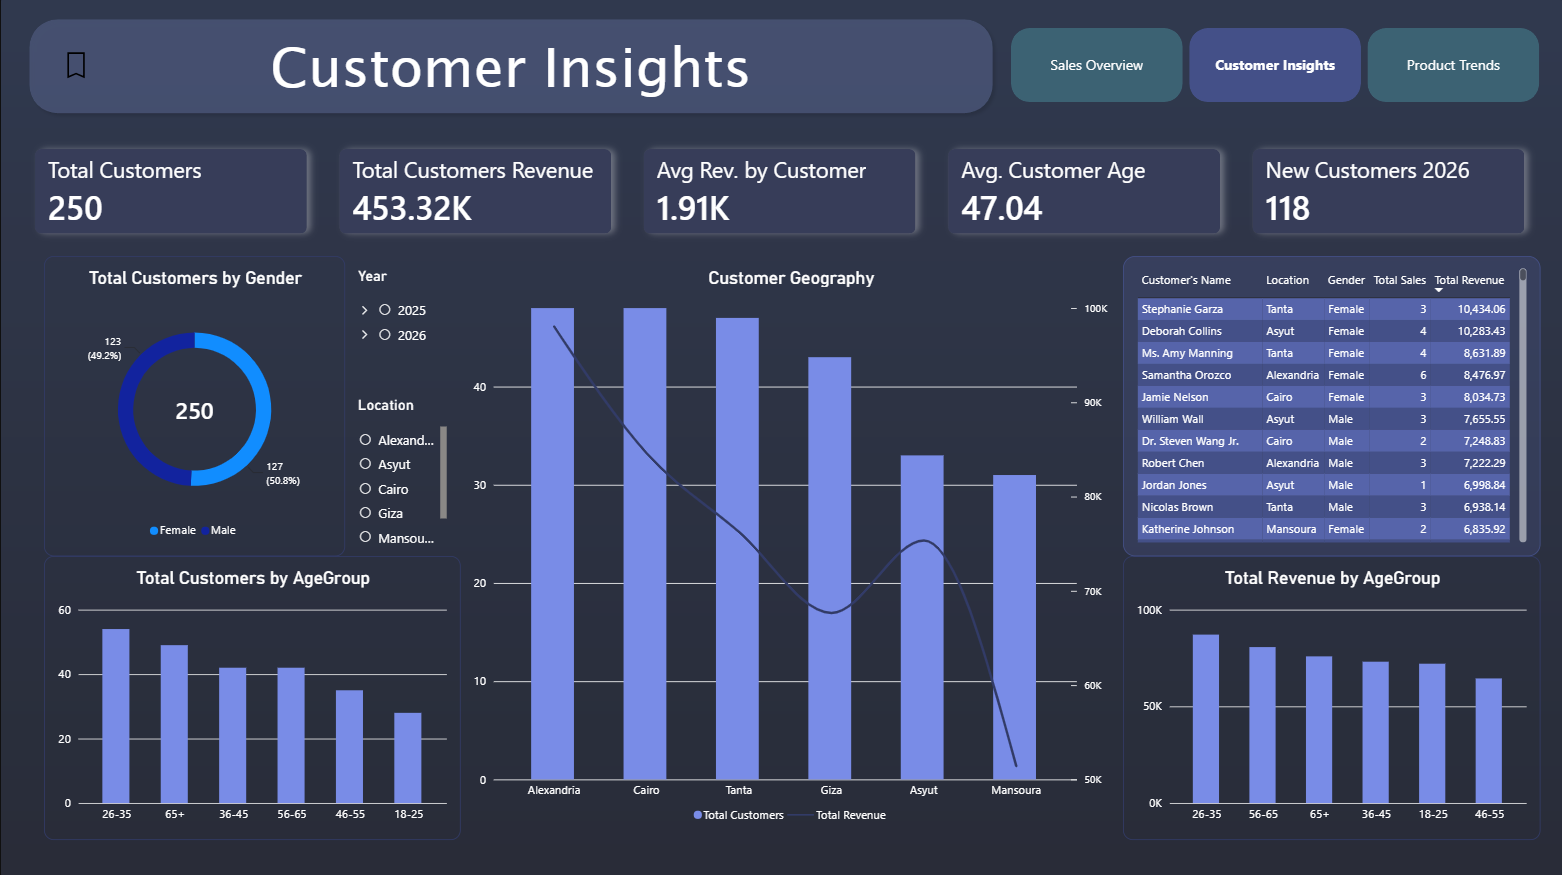

Layout of this report page (visuals, bound fields, positions):
{"tool":"powerbi","page":{"name":"Customer Insights","canvas":[1920,1080],"ordinal":1},"visuals":[{"type":"shape","box":[26.7,16.7,1201.7,133.3],"z":0},{"type":"cardVisual","fields":{"Data":["Customers.Total Customers2","Customers.Total Customers Revenue","Customers.Avg Rev by Customer","Customers.Avg. Customer Age","Customers.New Customers 2026"]},"box":[26.7,170,1866.7,136.7],"z":1000},{"type":"pageNavigator","box":[1241.7,36.7,651.7,91.7],"z":2000},{"type":"actionButton","box":[54.3,42.9,78.6,80],"z":3000},{"type":"columnChart","fields":{"Category":["Customers.AgeGroup"],"Y":["Customers.Total Customers"]},"box":[54.3,685.7,512,348.6],"z":4000},{"type":"columnChart","fields":{"Category":["Customers.AgeGroup"],"Y":["Sales.Total Revenue"]},"box":[1380,685.7,512.9,348.6],"z":5000},{"type":"donutChart","fields":{"Category":["Customers.Gender"],"Y":["Customers.Total Customers"]},"box":[54.3,317.1,370,368.6],"z":6000},{"type":"tableEx","fields":{"Values":["Customers.Name","Customers.Location","Customers.Gender","Payments.SaleID","Sales.Total Revenue"]},"box":[1380,317.1,512.9,368.6],"z":7000},{"type":"lineClusteredColumnComboChart","title":"Customer Geography","fields":{"Category":["Customers.Location"],"Y":["Customers.Total Customers"],"Y2":["Sales.Total Revenue"]},"box":[565.7,317.1,814.3,717.1],"z":8000},{"type":"listSlicer","fields":{"Values":["Dim_Date.Year Hierarchy.Year","Dim_Date.Year Hierarchy.MonthName","Dim_Date.Year Hierarchy.Quarter"]},"box":[424.3,317.1,141.4,158.6],"z":9000},{"type":"listSlicer","fields":{"Values":["Customers.Location"]},"box":[424.3,475.7,141.4,210],"z":10000}]}

Visuals, with their boxes in screenshot pixels (x1, y1, x2, y2), scaled from the page's 1920x1080 canvas onto the 1562x875 screenshot:
shape: Rect(22, 14, 999, 122)
cardVisual - Customers.Total Customers2 x Customers.Total Customers Revenue: Rect(22, 138, 1540, 248)
pageNavigator: Rect(1010, 30, 1540, 104)
actionButton: Rect(44, 35, 108, 100)
columnChart - Customers.AgeGroup x Customers.Total Customers: Rect(44, 556, 461, 838)
columnChart - Customers.AgeGroup x Sales.Total Revenue: Rect(1123, 556, 1540, 838)
donutChart - Customers.Gender x Customers.Total Customers: Rect(44, 257, 345, 556)
tableEx - Customers.Name x Customers.Location: Rect(1123, 257, 1540, 556)
"Customer Geography" lineClusteredColumnComboChart: Rect(460, 257, 1123, 838)
listSlicer - Dim_Date.Year Hierarchy.Year x Dim_Date.Year Hierarchy.MonthName: Rect(345, 257, 460, 385)
listSlicer - Customers.Location: Rect(345, 385, 460, 556)
